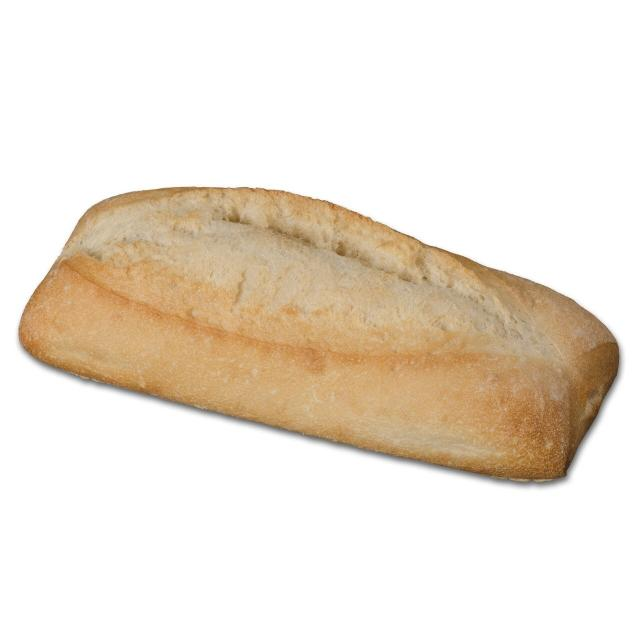Ciabatta: (19, 188, 619, 480)
